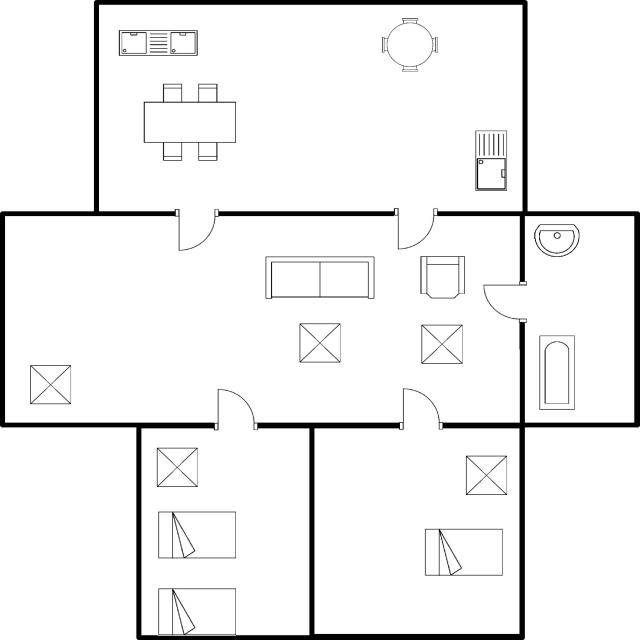bed: (138, 77, 241, 164), (155, 507, 240, 562), (422, 525, 506, 580), (155, 585, 243, 635)
coffee_table: (152, 442, 205, 493), (458, 451, 512, 501), (415, 320, 467, 370), (294, 319, 346, 367), (24, 361, 76, 408)
large_sofa: (260, 252, 380, 306)
round_table: (376, 13, 443, 76)
sink: (470, 126, 510, 195)
small_sink: (529, 220, 584, 260)
tub: (534, 330, 578, 415)
twin_sink: (115, 25, 202, 60)
